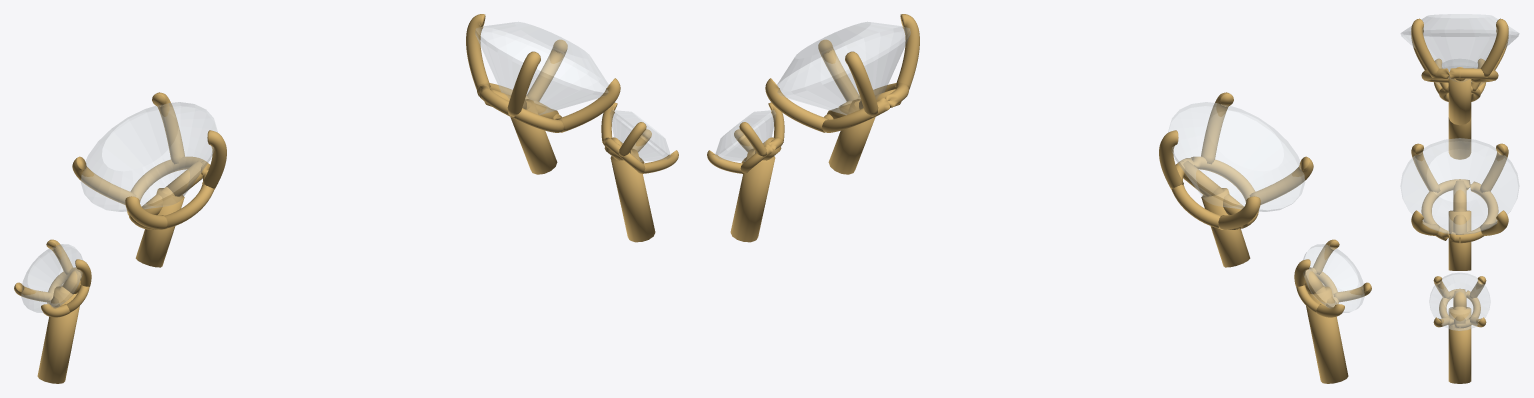
The model's file is layouts-graduated.glb.
3 views of the same model, side by side, from view 1: azimuth 30°, elevation 25°; view 2: azimuth 150°, elevation 25°; view 3: azimuth 270°, elevation 25° (orthographic). The views are drawn at different scales.
Visible parts, largest first — view 1: Gem.001, Gem.003, Gem.002, Side head support.003, Side head support.001, Lower gallery.001, Gem.004, Side head support.002, Side head support, Lower gallery.003, Prong.013, Prong.015 (+8 smaller); view 2: Gem.001, Gem.003, Gem.002, Side head support.003, Side head support.001, Lower gallery.001, Gem.004, Side head support.002, Side head support, Lower gallery.003, Prong.014, Prong.012 (+8 smaller); view 3: Gem.003, Gem.001, Gem.004, Lower gallery.003, Side head support.003, Side head support, Side head support.002, Side head support.001, Lower gallery.001, Prong.004, Prong.007, Prong.013 (+16 smaller).
Boxes of the visible parts, x1,y1,x2,y2 form: Gem.001: (81,102,217,211); Gem.003: (475,22,608,114); Gem.002: (21,244,82,312); Side head support.003: (610,148,655,242); Side head support.001: (37,286,79,383); Lower gallery.001: (127,156,214,229); Gem.004: (610,110,670,161); Side head support.002: (510,99,557,174); Side head support: (135,188,184,267); Lower gallery.003: (477,83,563,132); Prong.013: (466,14,490,89); Prong.015: (556,78,620,132); Gem.001: (1168,102,1304,211); Gem.003: (777,22,910,114); Gem.002: (1303,244,1364,312); Side head support.003: (730,148,775,242); Side head support.001: (1306,286,1348,383); Lower gallery.001: (1171,156,1258,229); Gem.004: (715,110,775,161); Side head support.002: (828,99,875,174); Side head support: (1201,188,1250,267); Lower gallery.003: (822,83,908,132); Prong.014: (895,14,919,89); Prong.012: (765,78,829,132); Gem.003: (1400,138,1519,234); Gem.001: (1400,14,1519,81); Gem.004: (1429,273,1490,330); Lower gallery.003: (1421,179,1498,243); Side head support.003: (1448,307,1471,383); Side head support: (1448,75,1471,125); Side head support.002: (1448,210,1471,270); Side head support.001: (1448,117,1471,159); Lower gallery.001: (1421,68,1498,82); Prong.004: (1480,18,1508,77); Prong.007: (1411,18,1439,77); Prong.013: (1479,143,1508,192).
Size of the model in its own units: 15.65 by 5.56 by 3.2.
